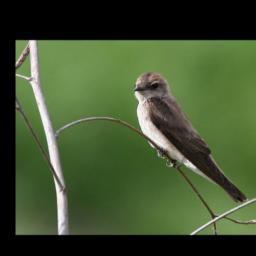Swallow: (132, 70, 251, 205)
